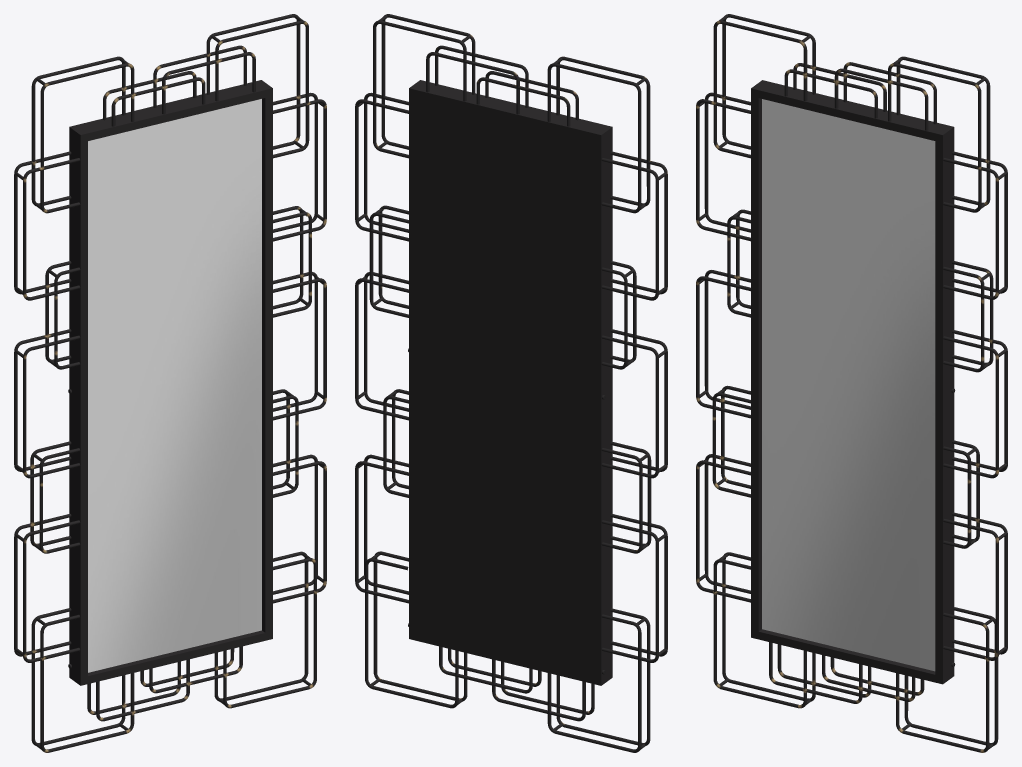
The picture shows the model from 3 angles, left to right: view 1: azimuth 30°, elevation 25°; view 2: azimuth 150°, elevation 25°; view 3: azimuth 330°, elevation 25°; orthographic projection.
Visible parts, largest first — view 1: RootNode; view 2: RootNode; view 3: RootNode.
Boxes of the visible parts, <box> form: RootNode: <box>14,14,326,752</box>; RootNode: <box>355,14,667,752</box>; RootNode: <box>696,14,1007,752</box>.
Bounding box in the file's own units: 0.5647 × 1.19 × 0.0367.
Materials: 1 (1 with a texture image).
